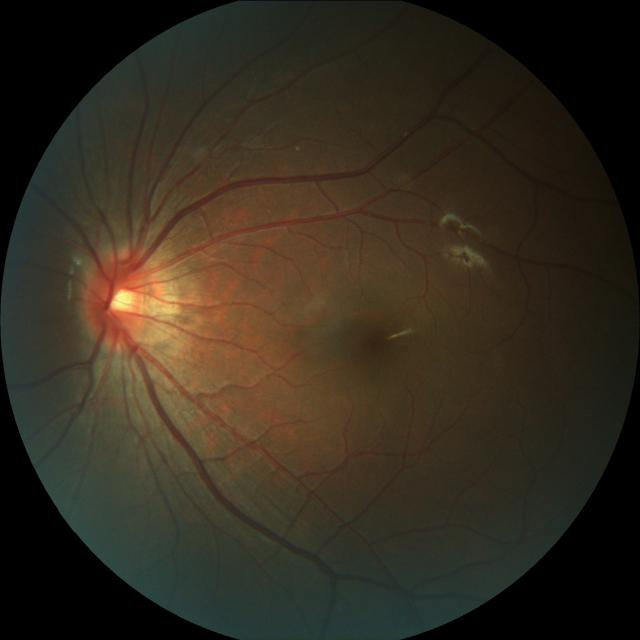OC: (104, 285, 138, 320)
OD: (86, 254, 150, 345)
